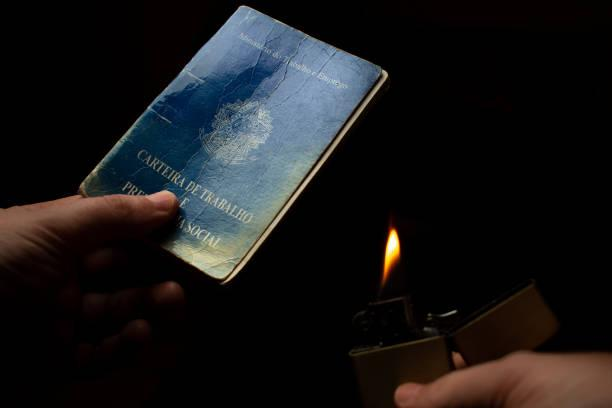Fire: (381, 220, 404, 294)
